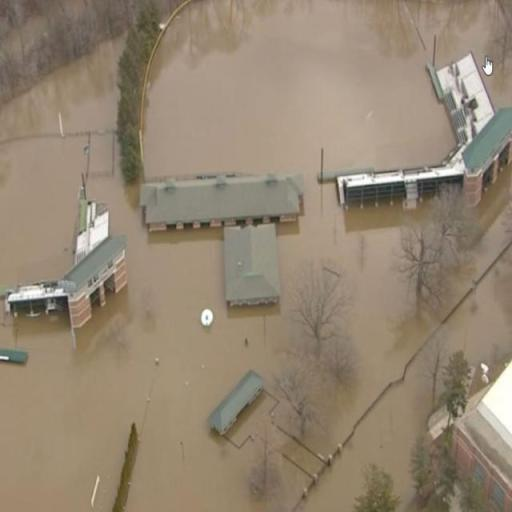flood: (0, 35, 284, 512), (145, 0, 512, 226), (297, 240, 512, 512), (280, 181, 481, 436), (223, 391, 333, 484), (462, 165, 512, 264)
house: (153, 170, 299, 230), (60, 230, 130, 332), (222, 214, 284, 310), (334, 160, 462, 204), (474, 351, 512, 497)
